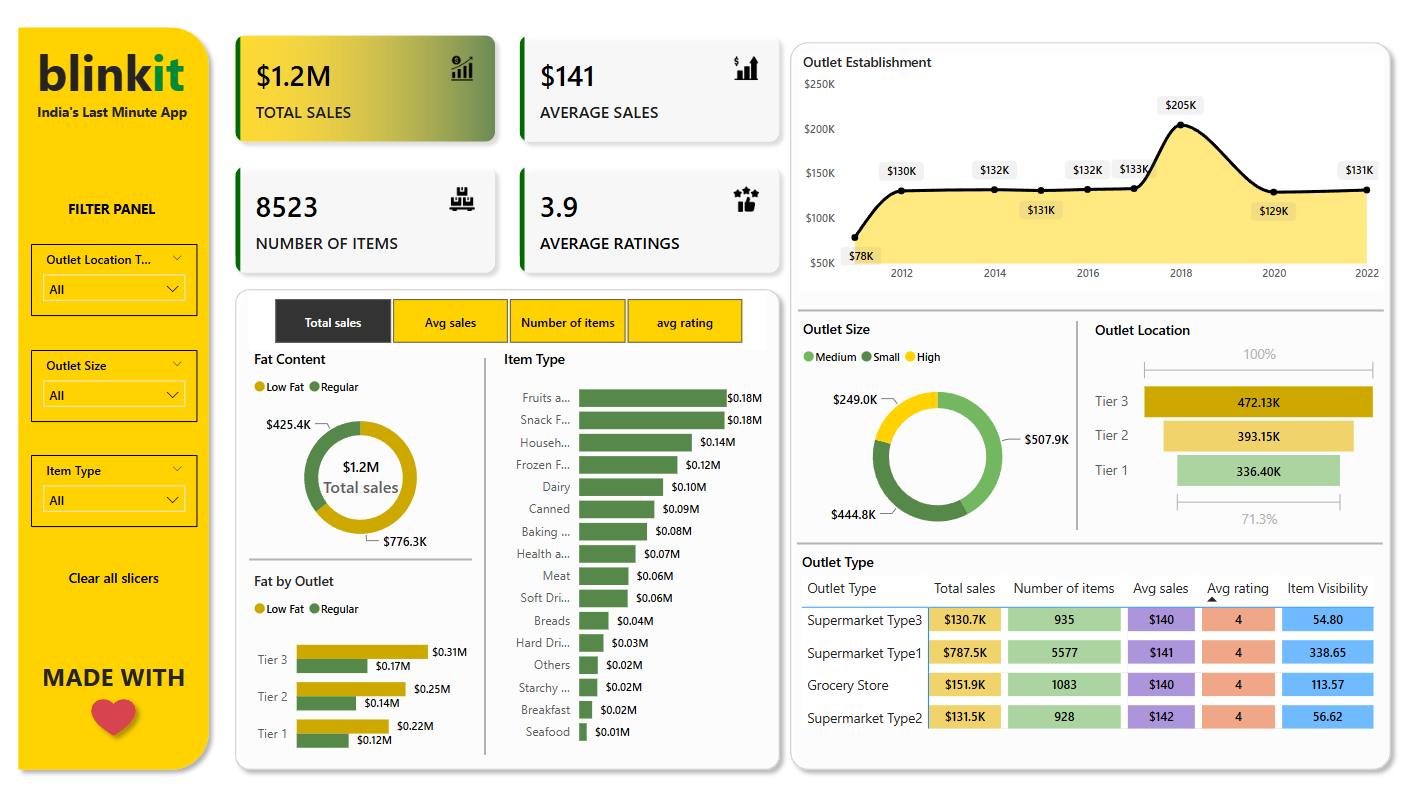

The page's visual inventory and layout, read from the dashboard file:
{"tool":"powerbi","page":{"name":"Page 1","canvas":[1400,800],"ordinal":0},"visuals":[{"type":"shape","box":[11.8,24.6,205.9,749.8],"z":0},{"type":"textbox","box":[34.5,39.4,163.5,77.8],"z":1000},{"type":"textbox","box":[34.5,103.4,171.4,26.6],"z":2000},{"type":"cardVisual","fields":{"Data":["BlinkIT Grocery Data.Total sales","BlinkIT Grocery Data.Avg sales","BlinkIT Grocery Data.Number of items","BlinkIT Grocery Data.avg rating"]},"box":[217.7,24.6,570.4,270],"z":3000},{"type":"shape","box":[225.6,282.8,554.7,491.6],"z":4000},{"type":"donutChart","title":"Fat Content","fields":{"Y":["BlinkIT Grocery Data.Total sales"],"Category":["BlinkIT Grocery Data.Item Fat Content"]},"box":[248.3,351.7,219.7,206.9],"z":5000},{"type":"slicer","fields":{"Values":["Metrics.Metrics"]},"box":[248.3,294.6,510.3,57.1],"z":6000},{"type":"cardVisual","fields":{"Data":["BlinkIT Grocery Data.Total sales"]},"box":[309.4,447.3,98.5,54.2],"z":7000},{"type":"clusteredBarChart","title":"Fat by Outlet","fields":{"Y":["BlinkIT Grocery Data.Total sales"],"Category":["BlinkIT Grocery Data.Outlet Location Type"],"Series":["BlinkIT Grocery Data.Item Fat Content"]},"box":[248.3,570.4,219.7,194.1],"z":8000},{"type":"shape","box":[248.3,470.9,219.7,174.4],"z":9000},{"type":"shape","box":[392.1,359.6,177.3,391.1],"z":10000},{"type":"clusteredBarChart","title":"Item Type","fields":{"Y":["BlinkIT Grocery Data.Total sales"],"Category":["BlinkIT Grocery Data.Item Type"]},"box":[494.6,351.7,264,399],"z":11000},{"type":"shape","box":[772.4,39.4,609.9,735],"z":12000},{"type":"lineChart","title":"Outlet Establishment","fields":{"Category":["BlinkIT Grocery Data.Outlet Establishment Year"],"Y":["BlinkIT Grocery Data.Total sales"]},"box":[789.2,59.1,577.3,235.5],"z":13000},{"type":"shape","box":[789.2,225.6,577.3,174.4],"z":14000},{"type":"donutChart","title":"Outlet Size","fields":{"Y":["BlinkIT Grocery Data.Total sales"],"Category":["BlinkIT Grocery Data.Outlet Size"]},"box":[789.2,322.2,275,225],"z":15000},{"type":"shape","box":[975.4,323.2,177.3,205.9],"z":16000},{"type":"funnel","title":"Outlet Location","fields":{"Y":["Sum(BlinkIT Grocery Data.Sales)"],"Category":["BlinkIT Grocery Data.Outlet Location Type"]},"box":[1076.8,323.2,288.7,209.9],"z":17000},{"type":"shape","box":[788.2,455.2,577.3,174.4],"z":18000},{"type":"pivotTable","title":"Outlet Type","fields":{"Rows":["BlinkIT Grocery Data.Outlet Type"],"Values":["BlinkIT Grocery Data.Total sales","BlinkIT Grocery Data.Number of items","BlinkIT Grocery Data.Avg sales","BlinkIT Grocery Data.avg rating","Sum(BlinkIT Grocery Data.Item Visibility)"]},"box":[788.2,551.7,577.3,197],"z":19000},{"type":"slicer","fields":{"Values":["BlinkIT Grocery Data.Outlet Location Type"]},"box":[33.5,247.3,163.5,70.9],"z":20000},{"type":"slicer","fields":{"Values":["BlinkIT Grocery Data.Outlet Size"]},"box":[33.5,351.7,163.5,70.9],"z":21000},{"type":"slicer","fields":{"Values":["BlinkIT Grocery Data.Item Type"]},"box":[33.5,455.2,163.5,70.9],"z":22000},{"type":"textbox","box":[65,199,109.4,26.6],"z":23000},{"type":"actionButton","box":[56.2,555.7,117.2,40.4],"z":24000},{"type":"textbox","box":[39.4,652.2,153.7,98.5],"z":25000},{"type":"shape","box":[83.7,686.7,62.1,54.2],"z":25001}]}

Visuals, with their boxes in screenshot pixels (x1, y1, x2, y2), scaled from the page's 1400x800 canvas onto the 1415x796 screenshot:
shape: <box>12,24,220,771</box>
textbox: <box>35,39,200,117</box>
textbox: <box>35,103,208,129</box>
cardVisual - BlinkIT Grocery Data.Total sales x BlinkIT Grocery Data.Avg sales: <box>220,24,797,293</box>
shape: <box>228,281,789,771</box>
"Fat Content" donutChart: <box>251,350,473,556</box>
slicer - Metrics.Metrics: <box>251,293,767,350</box>
cardVisual - BlinkIT Grocery Data.Total sales: <box>313,445,412,499</box>
"Fat by Outlet" clusteredBarChart: <box>251,568,473,761</box>
shape: <box>251,469,473,642</box>
shape: <box>396,358,576,747</box>
"Item Type" clusteredBarChart: <box>500,350,767,747</box>
shape: <box>781,39,1397,771</box>
"Outlet Establishment" lineChart: <box>798,59,1381,293</box>
shape: <box>798,224,1381,398</box>
"Outlet Size" donutChart: <box>798,321,1076,544</box>
shape: <box>986,322,1165,526</box>
"Outlet Location" funnel: <box>1088,322,1380,530</box>
shape: <box>797,453,1380,626</box>
"Outlet Type" pivotTable: <box>797,549,1380,745</box>
slicer - BlinkIT Grocery Data.Outlet Location Type: <box>34,246,199,317</box>
slicer - BlinkIT Grocery Data.Outlet Size: <box>34,350,199,420</box>
slicer - BlinkIT Grocery Data.Item Type: <box>34,453,199,523</box>
textbox: <box>66,198,176,224</box>
actionButton: <box>57,553,175,593</box>
textbox: <box>40,649,195,747</box>
shape: <box>85,683,147,737</box>
